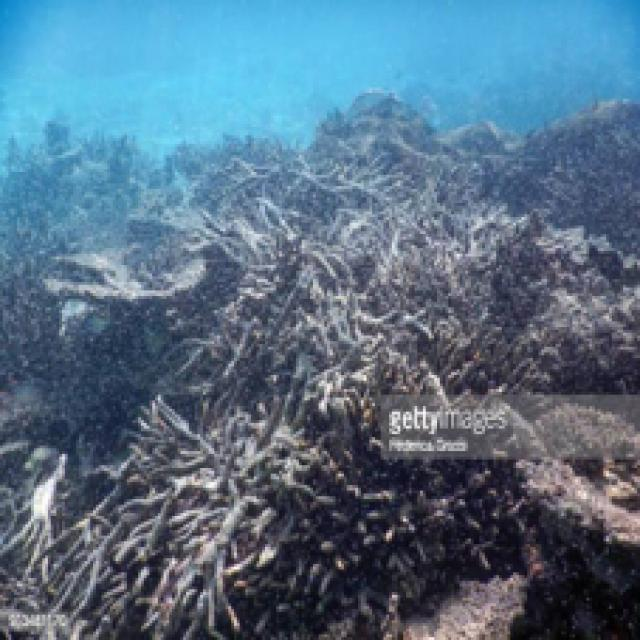Dead Coral: (0, 279, 401, 640), (154, 154, 532, 386)
